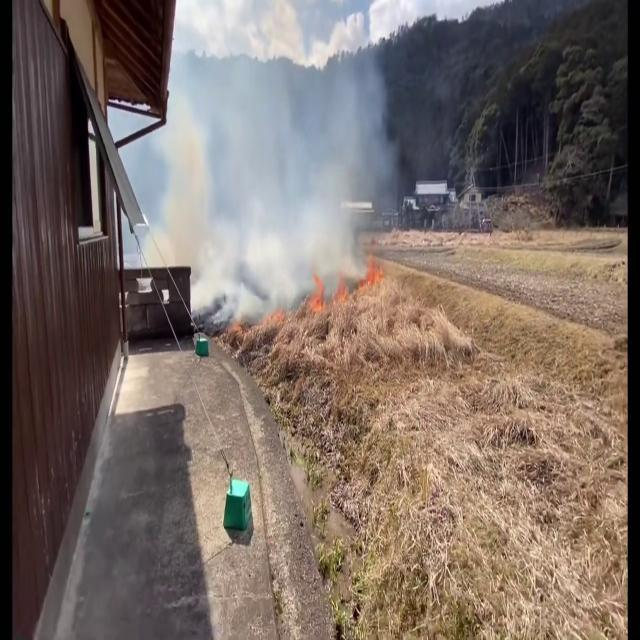Fire: (304, 250, 384, 318)
Smoke: (160, 6, 408, 348)
